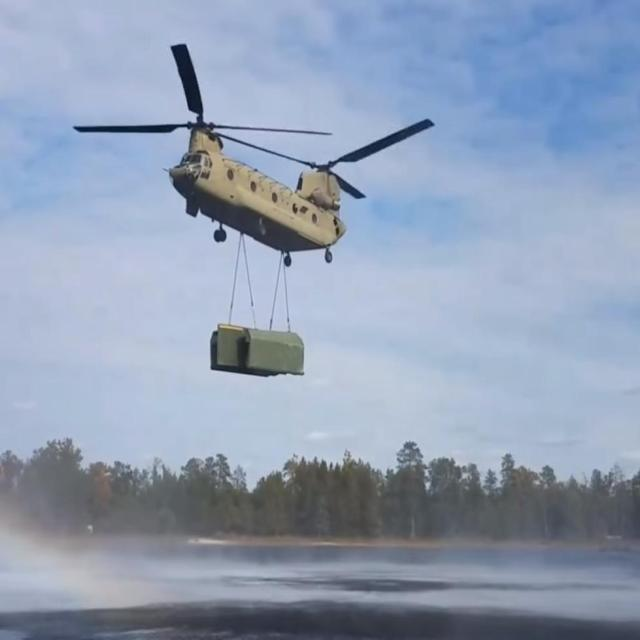Helicopter: (120, 61, 413, 274)
